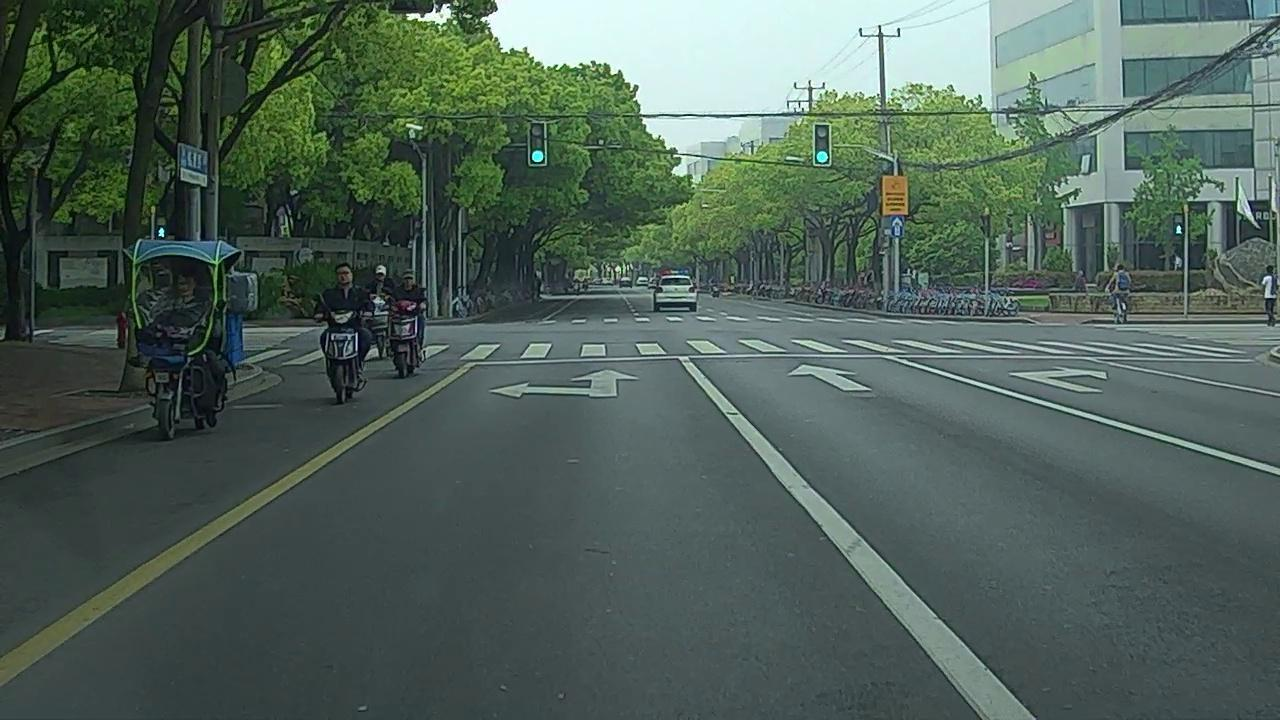traffic_light: (530, 124, 547, 164), (814, 124, 830, 164)
